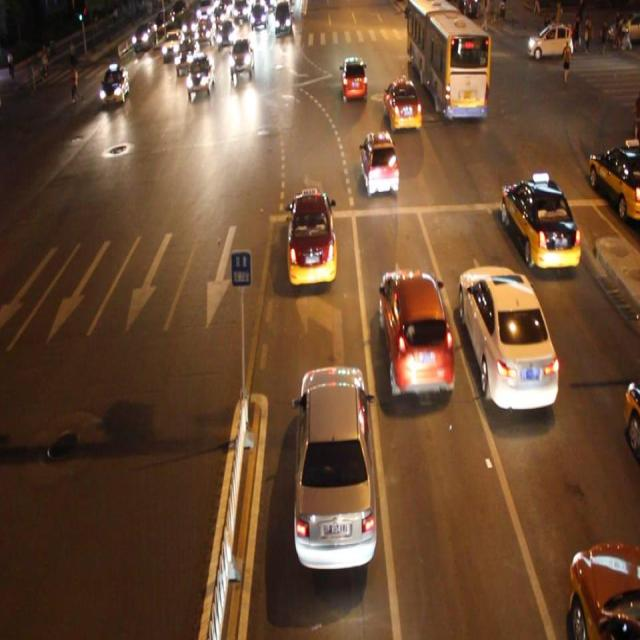car: (292, 356, 377, 571), (458, 264, 558, 412), (378, 267, 454, 397), (566, 535, 640, 640), (499, 172, 578, 268), (286, 188, 337, 284), (587, 132, 640, 222), (360, 130, 399, 197), (383, 78, 421, 132), (620, 372, 640, 452), (98, 65, 131, 107), (340, 55, 368, 104), (187, 56, 215, 95), (228, 40, 254, 75), (177, 41, 197, 68)
van: (403, 1, 490, 123)
